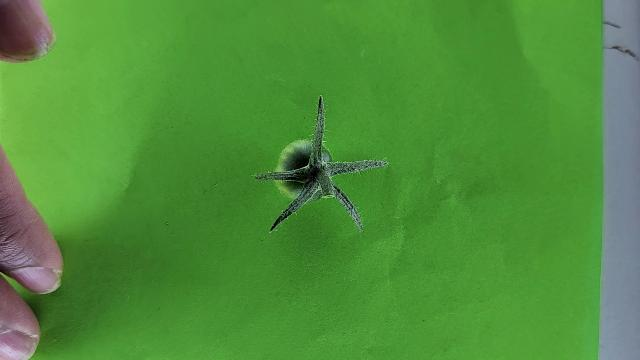Fruit Maturation: (272, 139, 332, 202)
